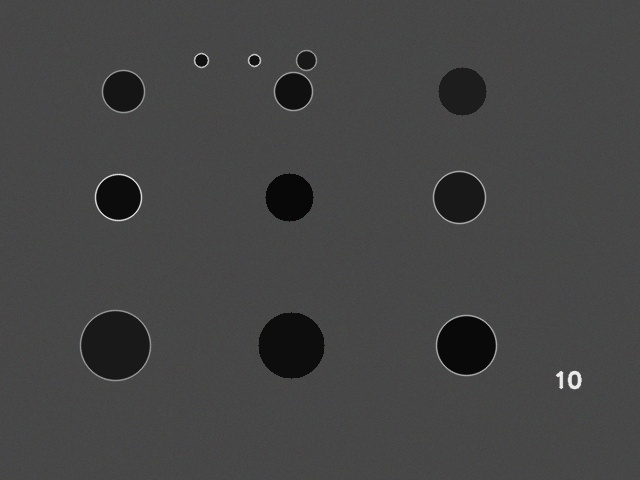hole: (80, 310, 150, 380), (258, 312, 324, 378), (436, 315, 496, 375), (433, 171, 485, 223), (438, 67, 486, 115), (265, 173, 313, 221), (95, 174, 141, 220), (102, 70, 144, 112), (274, 72, 312, 110), (296, 50, 316, 70), (194, 53, 208, 67), (248, 54, 260, 66)
